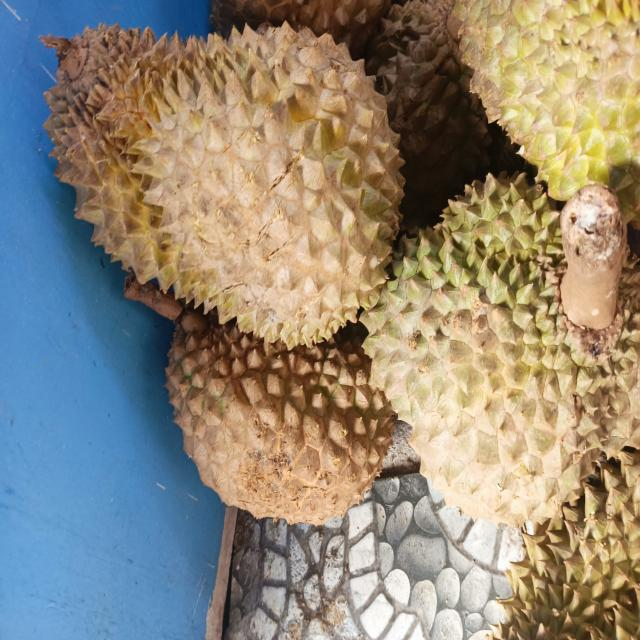mature: (42, 21, 403, 346), (363, 173, 640, 526), (0, 379, 595, 524), (166, 312, 395, 525), (455, 0, 640, 220), (365, 0, 515, 230), (494, 450, 640, 640)
